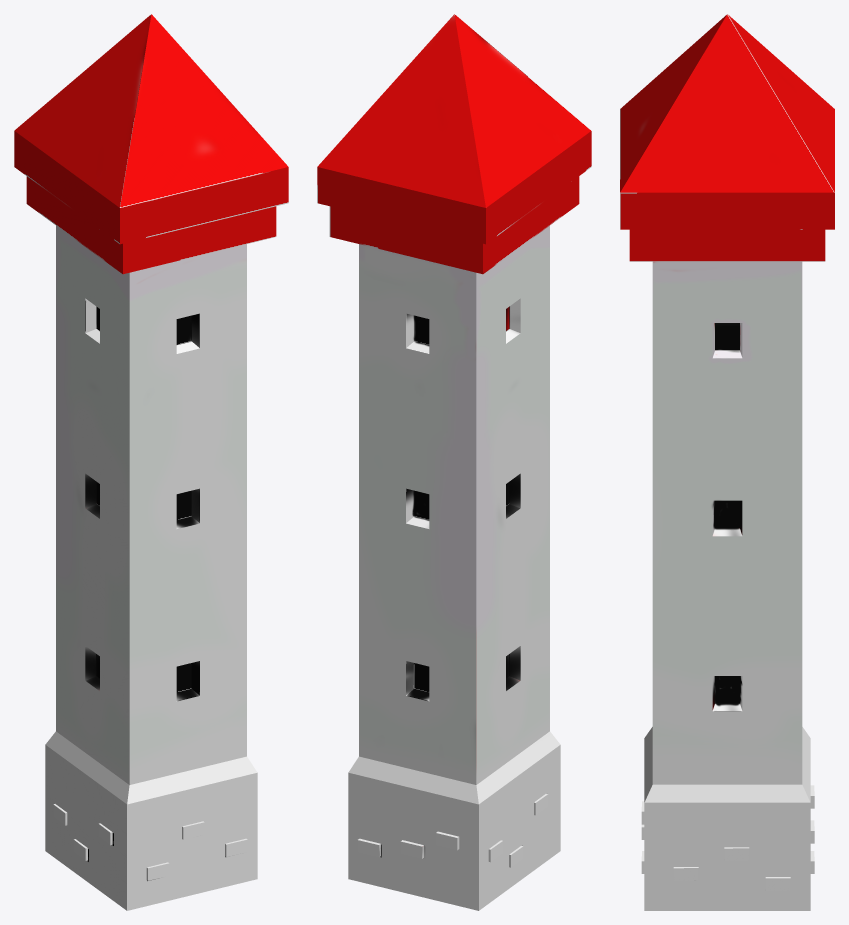
File: LargeSimpleTower.gltf
The picture shows the model from 3 angles, left to right: view 1: azimuth 30°, elevation 25°; view 2: azimuth 150°, elevation 25°; view 3: azimuth 270°, elevation 25°; orthographic projection.
Visible parts, largest first — view 1: LargeSimpleTower_Cube.034; view 2: LargeSimpleTower_Cube.034; view 3: LargeSimpleTower_Cube.034.
Part boxes in pixels (bbox=[...]): LargeSimpleTower_Cube.034: bbox=[14, 14, 288, 910]; LargeSimpleTower_Cube.034: bbox=[317, 14, 591, 910]; LargeSimpleTower_Cube.034: bbox=[620, 14, 834, 910].
Bounding box in the file's own units: 0.7657 × 3.69 × 0.8311.
4 materials, 4 textured.
